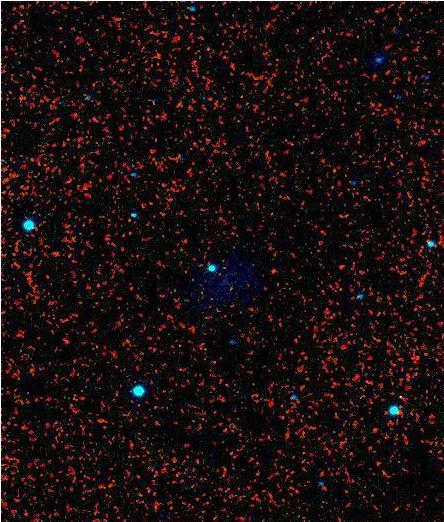star: (389, 379, 419, 409)
